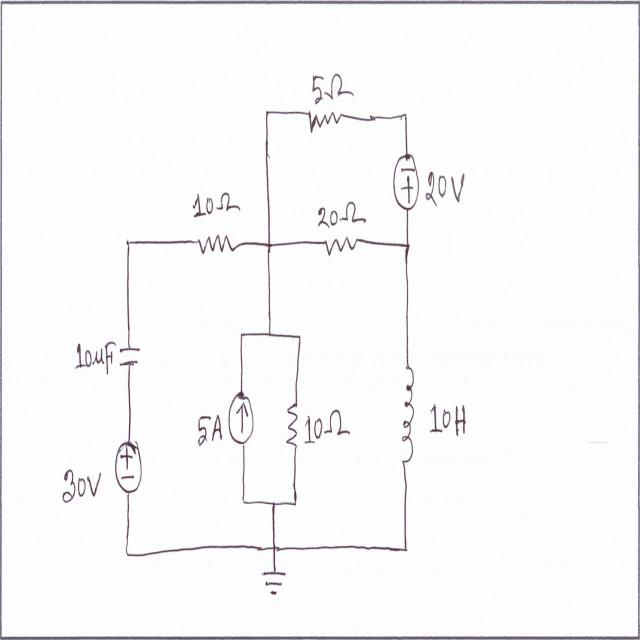capacitor: (116, 343, 142, 369)
current_source: (227, 388, 254, 448)
ground: (260, 568, 291, 600)
inductor: (397, 367, 417, 475)
resistor: (196, 230, 233, 265), (308, 105, 344, 140), (323, 232, 361, 262), (285, 398, 302, 457)
voltage_source: (112, 431, 145, 503), (390, 147, 420, 215)
